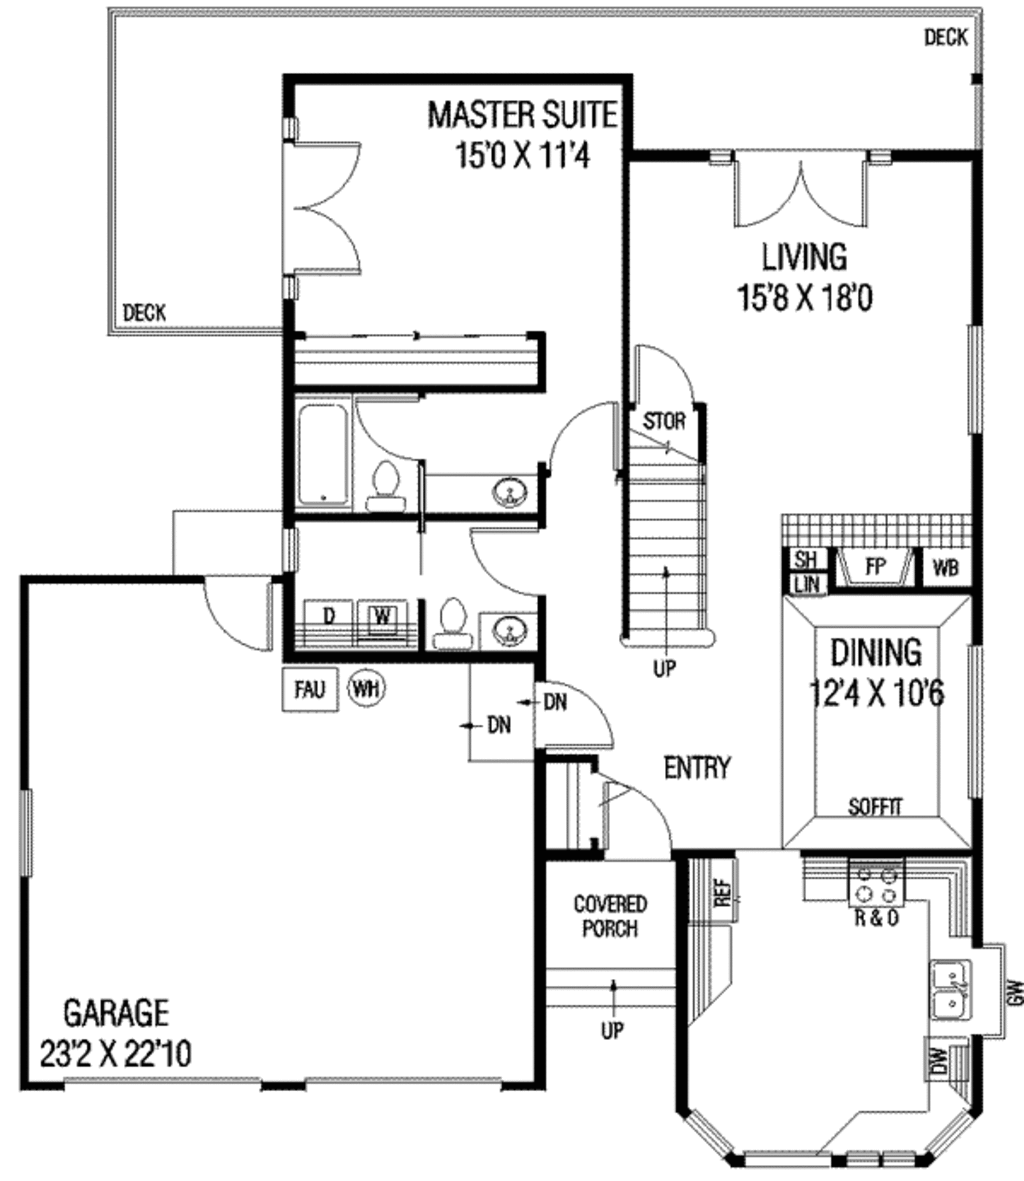door: (276, 138, 370, 289), (728, 142, 878, 236), (187, 553, 278, 654), (532, 676, 616, 763), (619, 340, 710, 413), (598, 778, 676, 862), (356, 391, 438, 467), (465, 529, 558, 596), (547, 402, 612, 478)
large_sink: (412, 580, 485, 660), (363, 454, 428, 520)
small_sink: (470, 603, 548, 658), (465, 469, 538, 518)
stairs: (614, 405, 732, 669), (547, 847, 687, 1047)
tub: (281, 396, 356, 522)
twin_sink: (916, 963, 978, 1033)
window: (665, 1105, 988, 1176), (959, 640, 998, 807), (63, 1069, 265, 1093), (12, 778, 45, 876), (965, 322, 981, 436)
